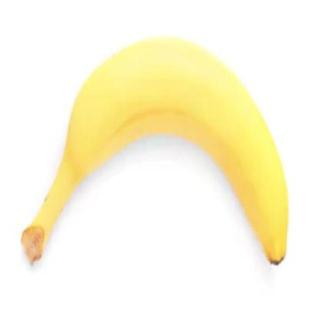banana: (64, 32, 290, 270)
